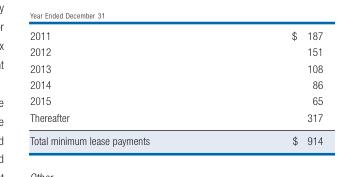table: (29, 28, 322, 145)
table column: (29, 28, 219, 145), (219, 28, 322, 145)
table row: (29, 108, 322, 128), (29, 75, 322, 92), (29, 128, 322, 145), (29, 43, 322, 59), (29, 59, 322, 75), (29, 92, 322, 108), (29, 28, 322, 43)
